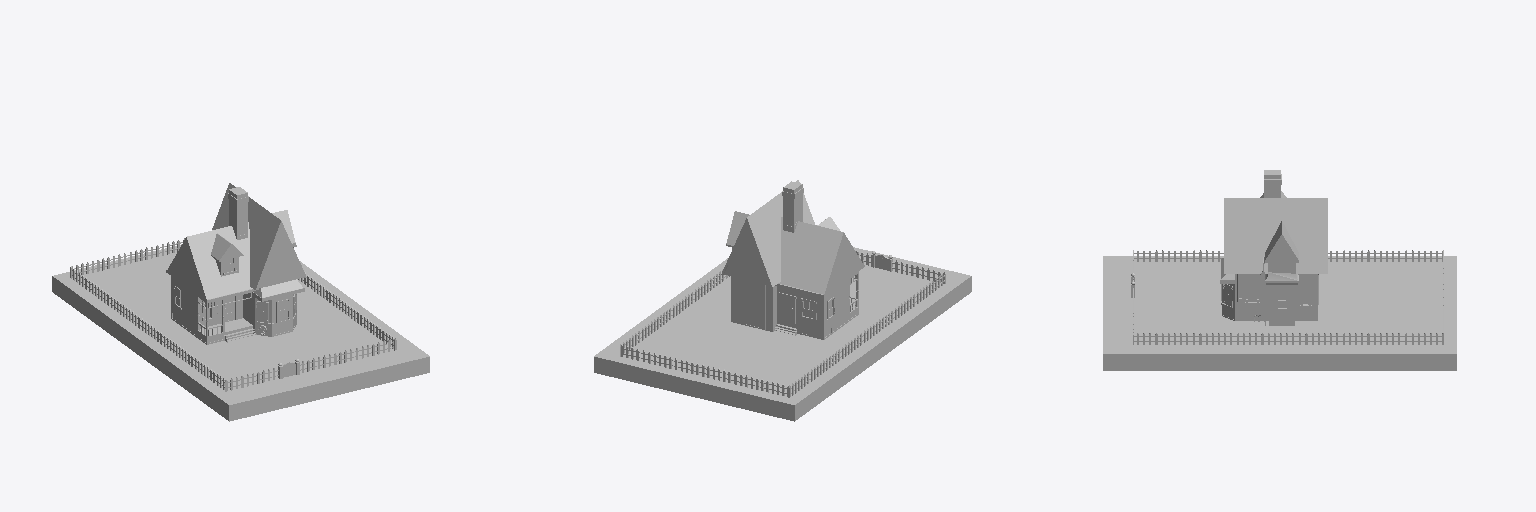
File: carl house.obj
3 views of the same model, side by side, from view 1: azimuth 30°, elevation 25°; view 2: azimuth 150°, elevation 25°; view 3: azimuth 270°, elevation 25° (orthographic).
Parts seen in each view (by area): view 1: Mesh3 Model, Mesh4 Model; view 2: Mesh3 Model; view 3: Mesh3 Model.
Part boxes in pixels (left/top/right/bottom): Mesh3 Model: left=52, top=183, right=429, bottom=421; Mesh4 Model: left=211, top=233, right=243, bottom=276; Mesh3 Model: left=594, top=180, right=971, bottom=421; Mesh3 Model: left=1103, top=170, right=1456, bottom=370.
Size of the model in its own units: 13.04 by 7.88 by 17.35.